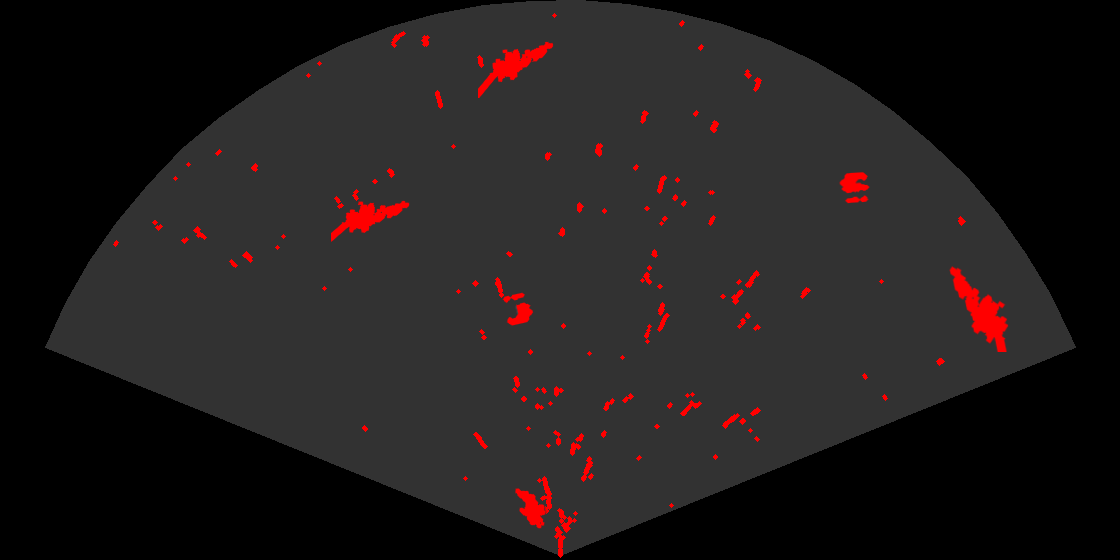AUV: (514, 487, 547, 530)
ball: (501, 291, 535, 327), (838, 171, 871, 205)
frogman: (948, 265, 1010, 352), (478, 40, 555, 98), (331, 199, 411, 243)
